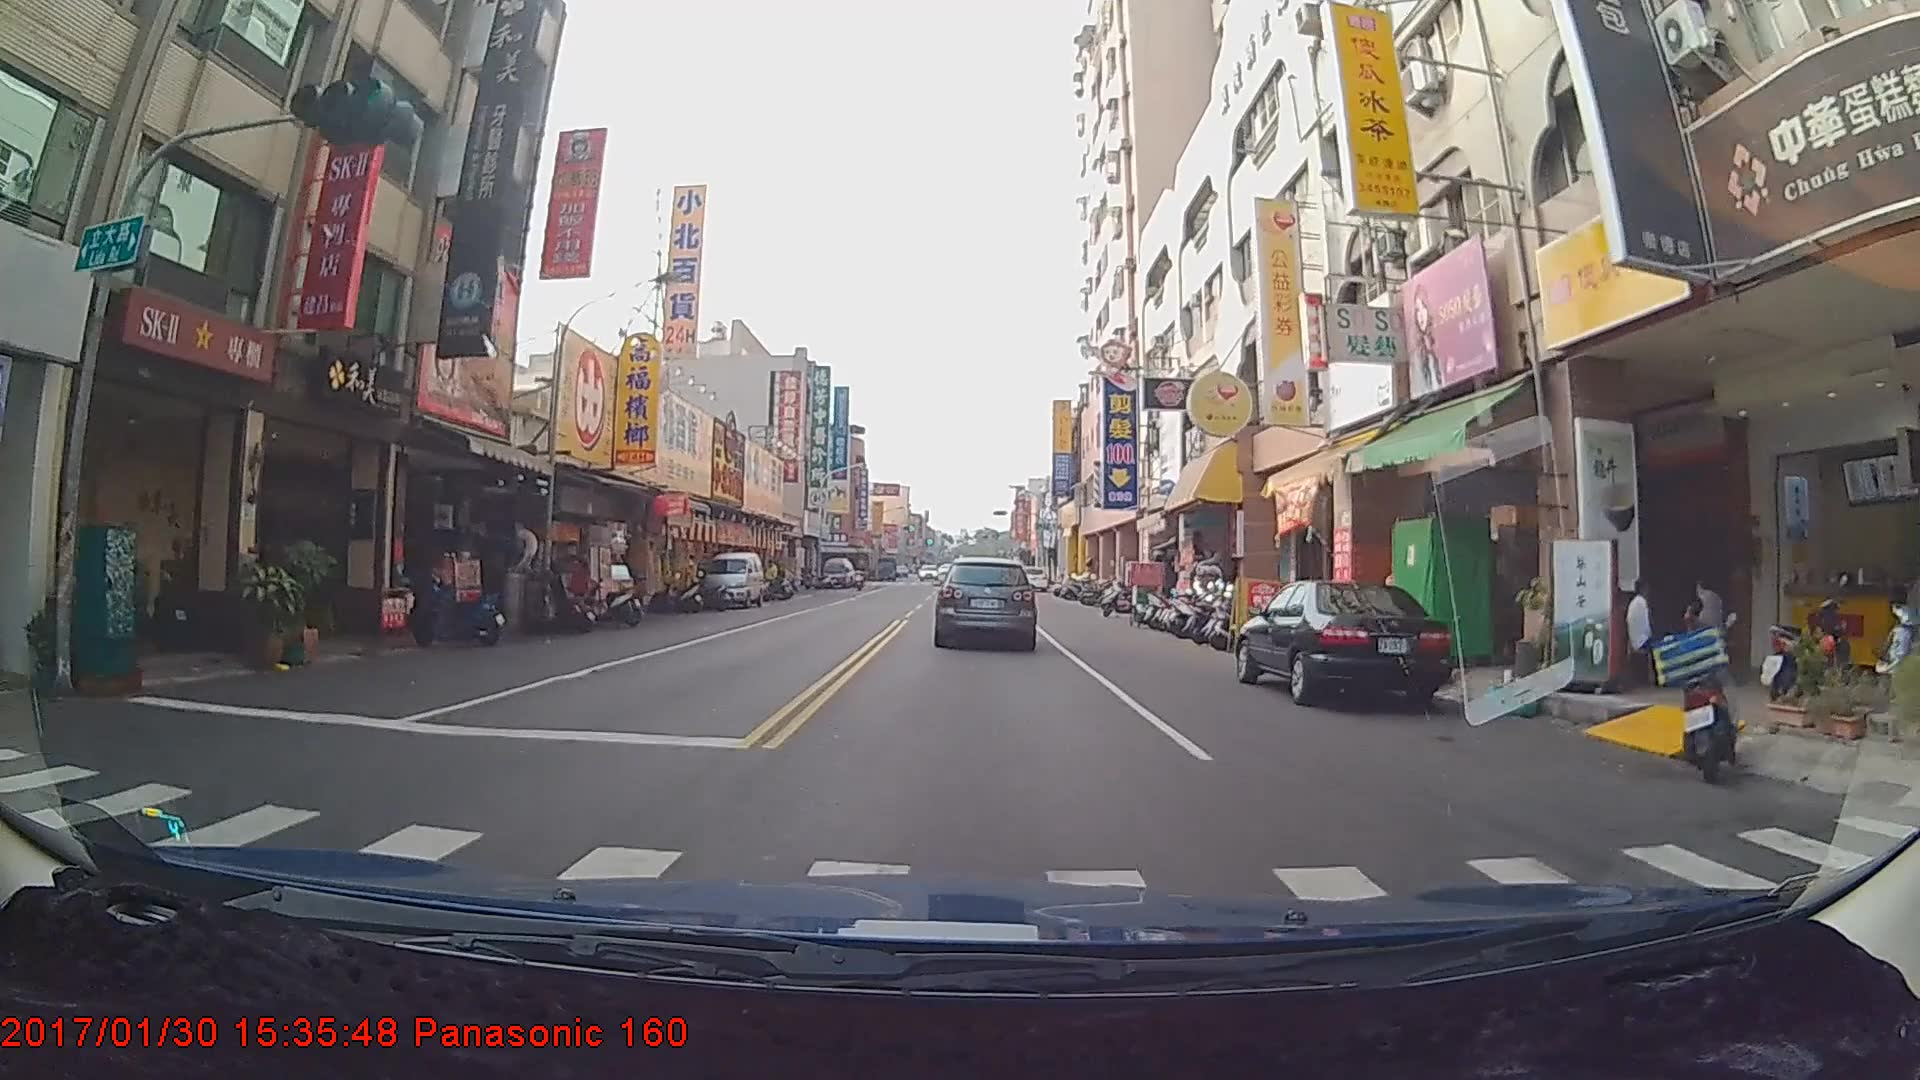pedestrian: (1679, 572, 1740, 688), (1621, 573, 1671, 687)
vehicle: (1234, 575, 1445, 704), (935, 555, 1036, 648), (702, 555, 764, 613), (820, 561, 853, 595), (1015, 574, 1046, 601)
